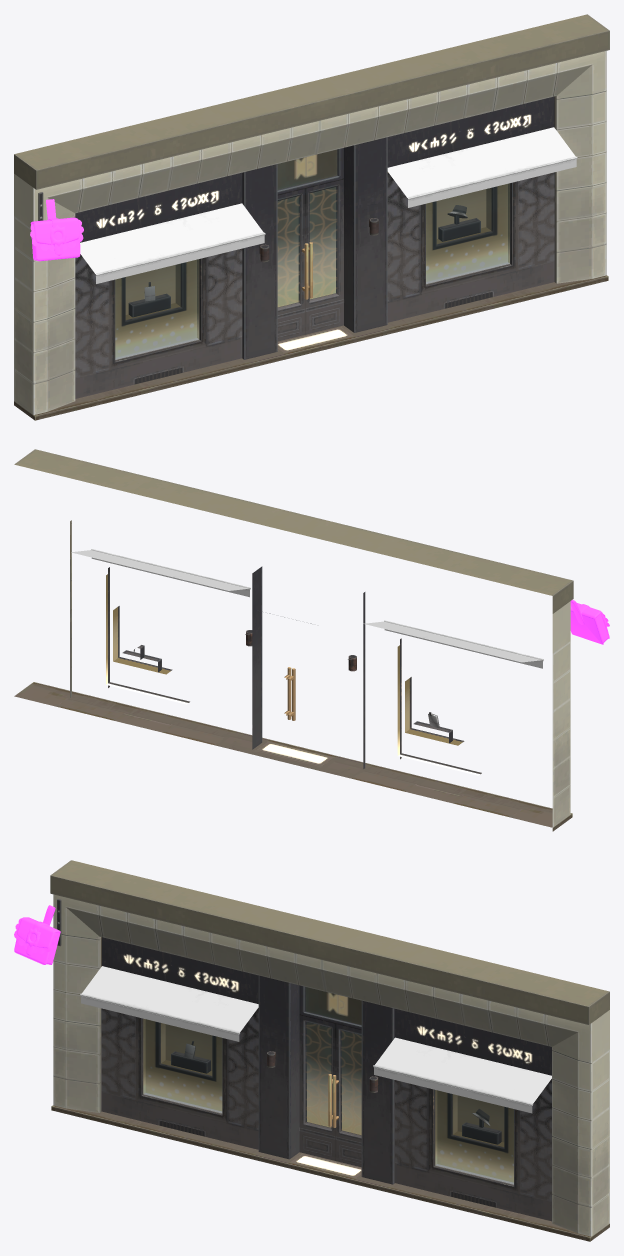
The model's file is t1_b_boutique3.glb.
3 renders of one model, top to bottom at view 1: azimuth 30°, elevation 25°; view 2: azimuth 150°, elevation 25°; view 3: azimuth 330°, elevation 25°, orthographic. The views are drawn at different scales.
Visible parts, largest first — view 1: nomerge_t1_b_boutique3_mesh; view 2: nomerge_t1_b_boutique3_mesh; view 3: nomerge_t1_b_boutique3_mesh.
Boxes of the visible parts, bbox=[...] form: nomerge_t1_b_boutique3_mesh: bbox=[14, 14, 609, 420]; nomerge_t1_b_boutique3_mesh: bbox=[14, 449, 609, 831]; nomerge_t1_b_boutique3_mesh: bbox=[14, 860, 609, 1241].
Bounding box in the file's own units: 11.42 × 4.6 × 1.58.
4 materials, 3 textured.
